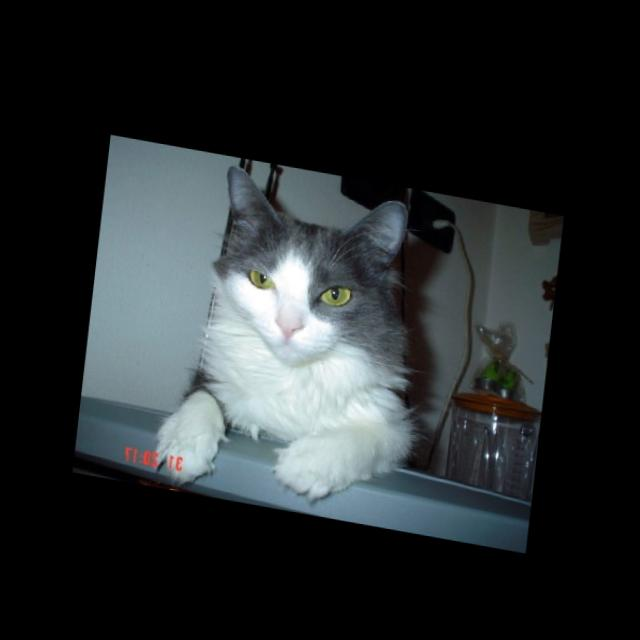animals: (215, 162, 402, 348)
